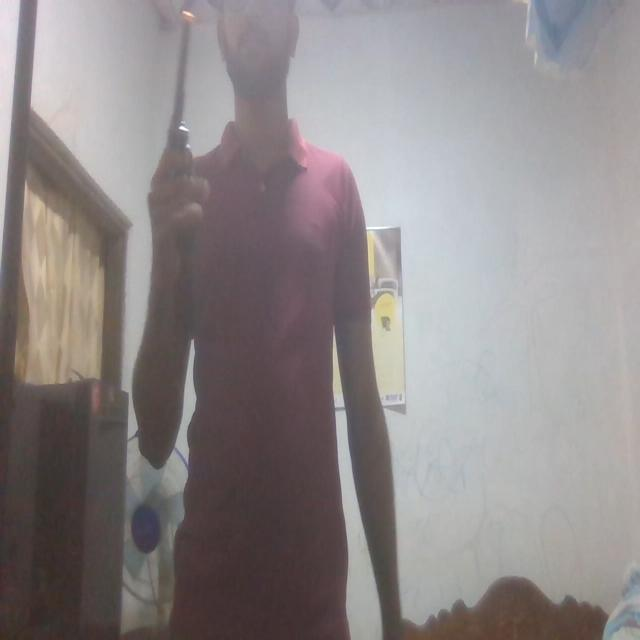Gun_Holder: (145, 2, 219, 233)
Person: (138, 0, 406, 640)
